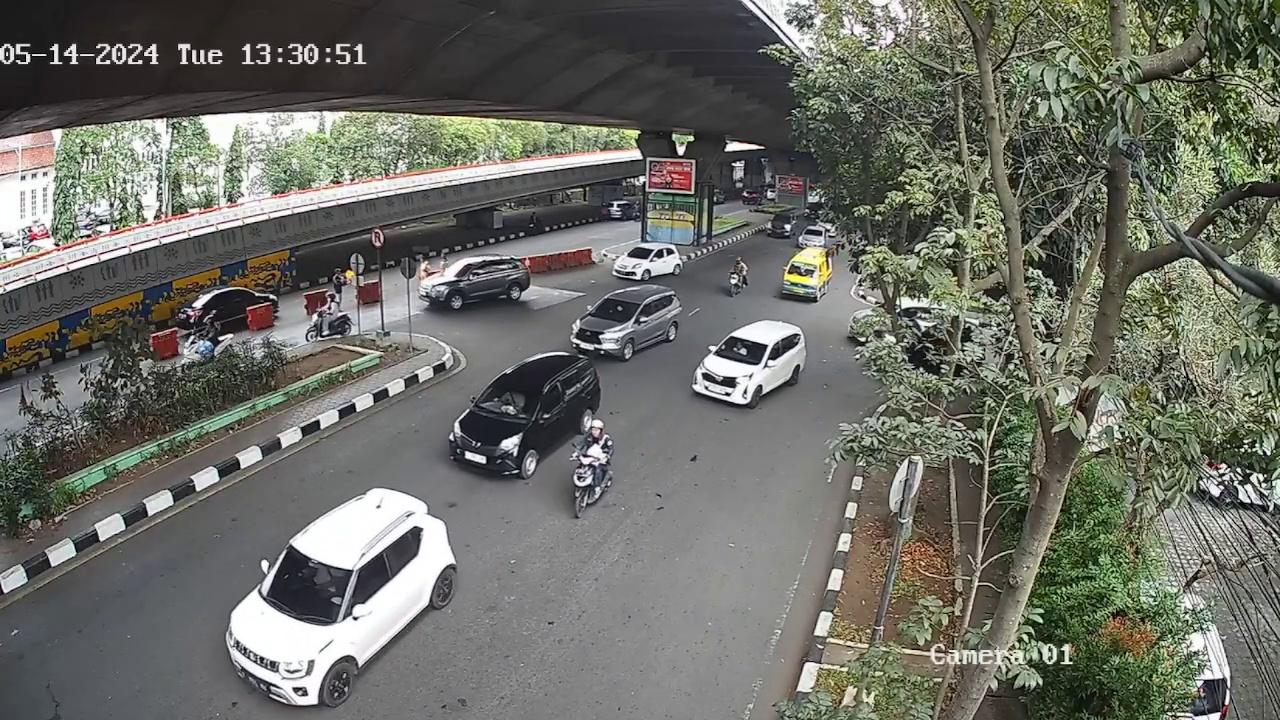pakai: (500, 388, 523, 410)
windshield: (263, 542, 365, 620), (476, 378, 547, 423), (592, 294, 646, 326), (718, 331, 763, 362)
